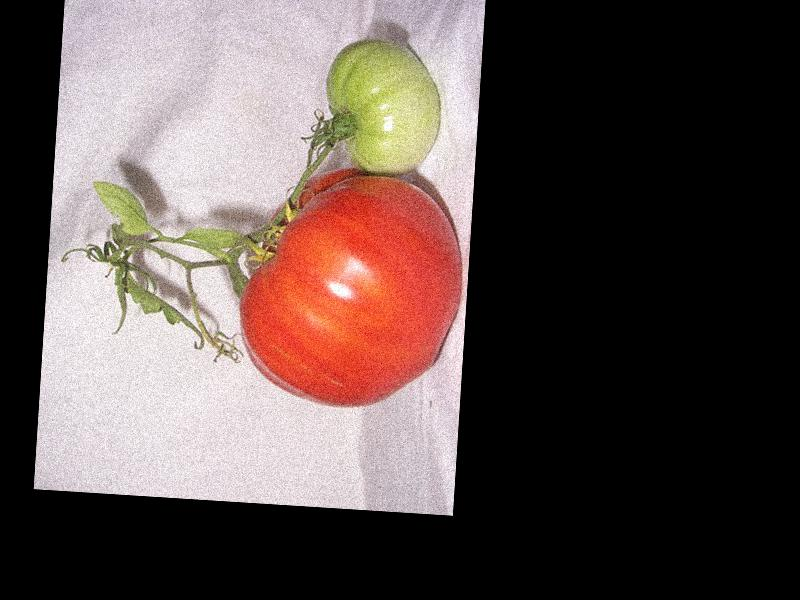Tomato: (233, 161, 466, 414)
